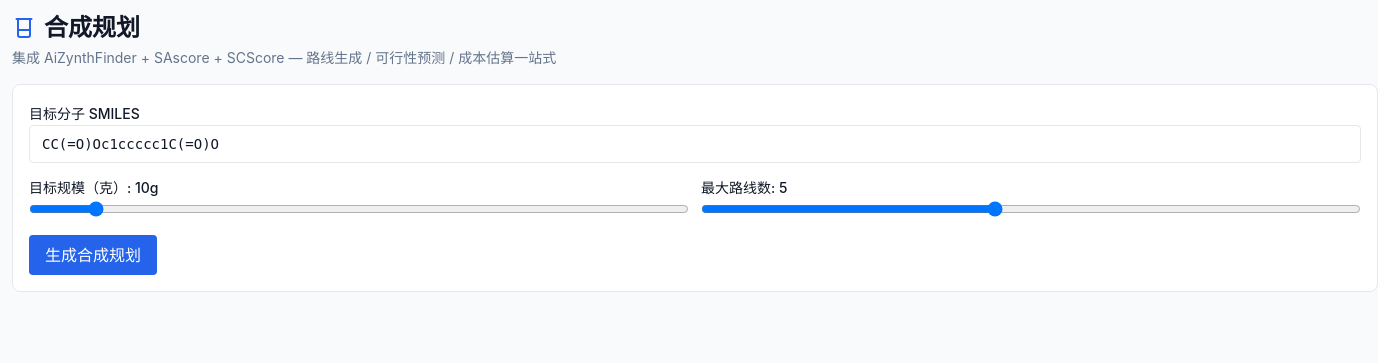
Test: SynthesisPage › API 失败时显示错误提示
Click the button "生成合成规划": (93, 255) [29,235,157,275]
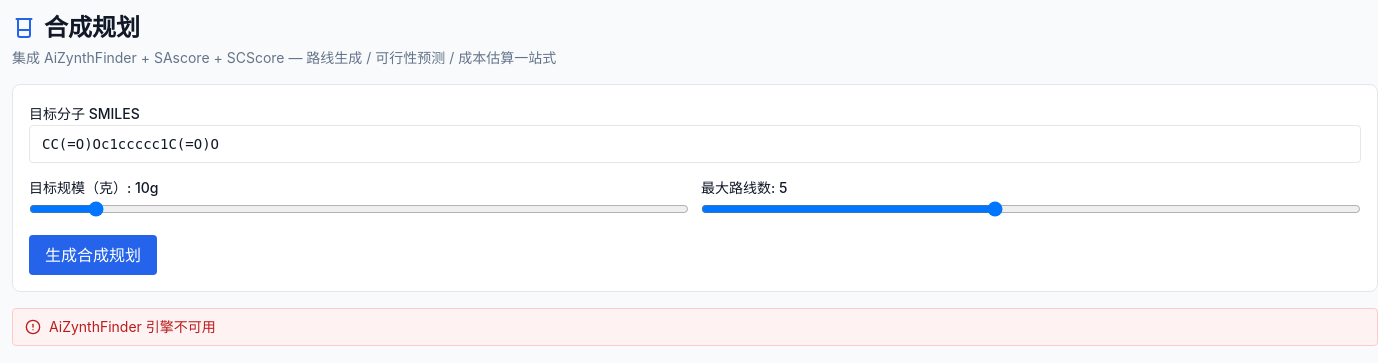
Expected: the text "AiZynthFinder 引擎不可用" is shown, [12,308,1377,346]
